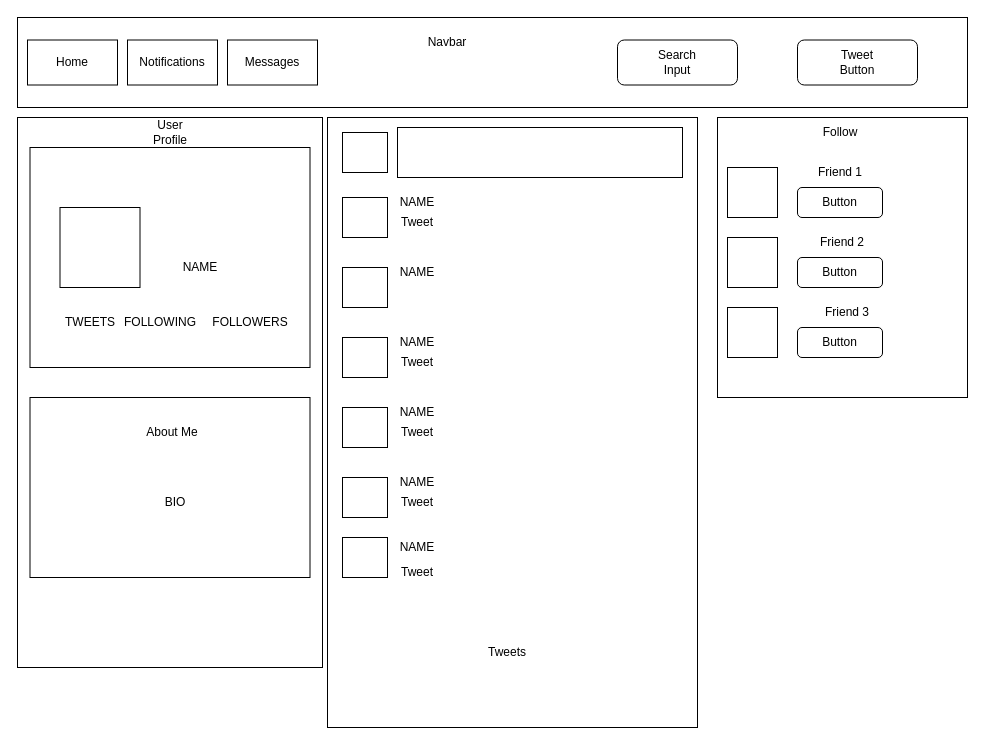
This 985x745 diagram has some shape labels left out. Here are the shapes that lost their labels. From the top down, the centre of each, then its label:
At (539,152): "What's happening? Input".
At (99,247): "Profile Picture".
